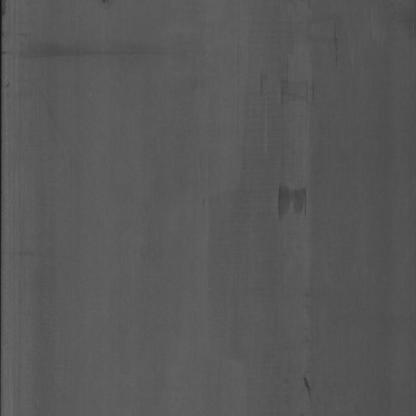rolled_pit: (270, 168, 316, 230)
